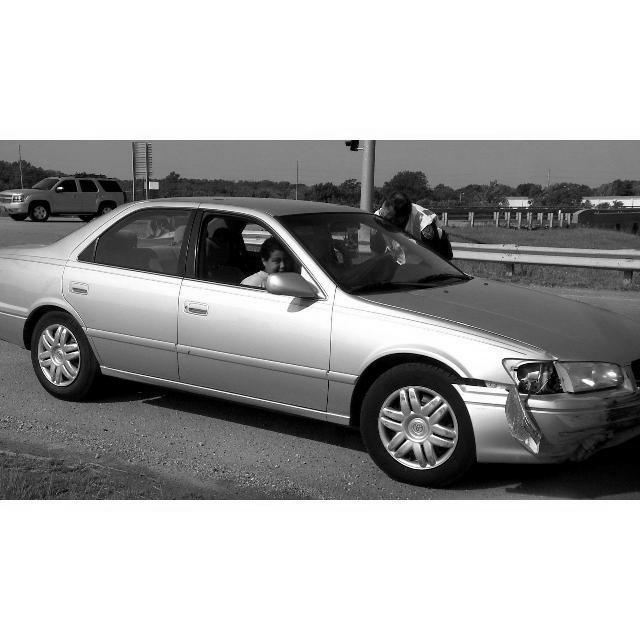Headlight-damage: (499, 347, 627, 404)
front-bumper-dent: (467, 392, 640, 474)
